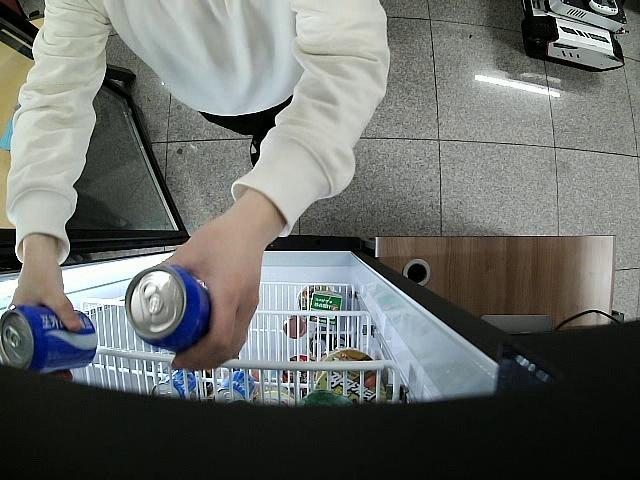13_pocariSweat: (125, 264, 212, 356), (0, 304, 99, 375)
